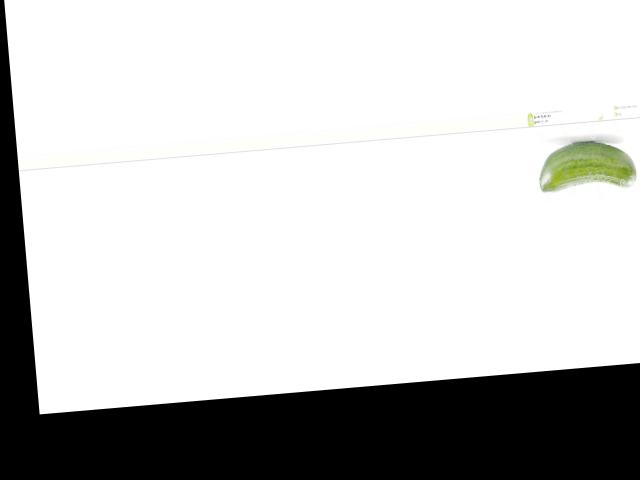cucumber: (537, 137, 637, 193)
